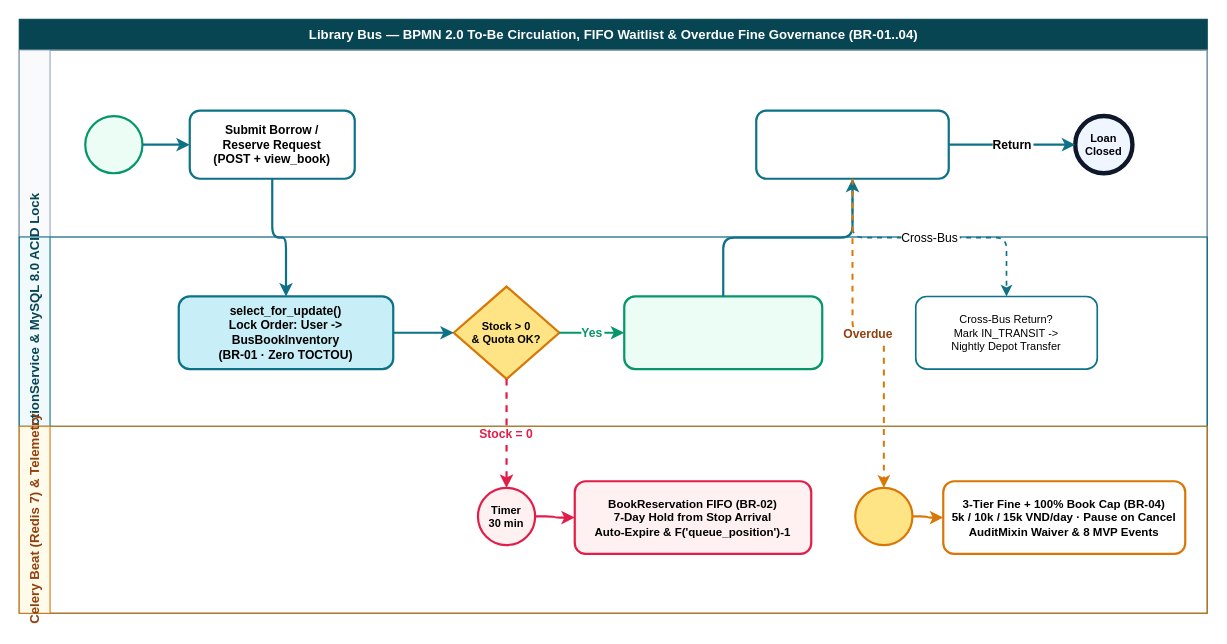
The diagram is 1227 pixels wide and 644 high, and some of its shapes have lost their labels. The shapes that lost their labels are listed below. From the top down, each one's box as (x1, y1, x2, y2) in pixels, then its label:
(84, 114, 143, 174): Start (#04 Book)
(18, 49, 1207, 237): Reader & Stop Librarian (UI / Counter)
(755, 109, 949, 179): Renew (+14d, <=3d left) or Return at Any Bus (BR-03 · Cross-Bus OK)
(623, 295, 823, 370): Create BorrowRecord available_copies - 1 COMMIT + Redis Cache Bust
(854, 486, 913, 546): Timer 06:00
